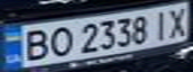2: (75, 20, 100, 54)
3: (97, 17, 118, 51), (115, 15, 136, 47)
8: (130, 12, 154, 45)
B: (15, 27, 54, 62)
I: (148, 8, 172, 41)
O: (42, 24, 75, 58)
X: (163, 3, 193, 38)
